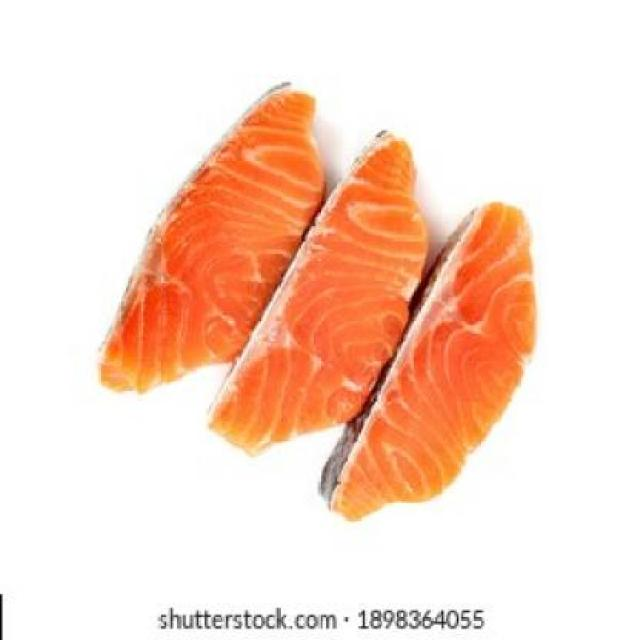salmon: (71, 60, 335, 421), (312, 180, 560, 521), (220, 112, 408, 473)
